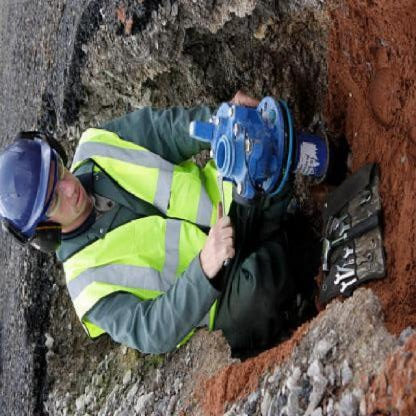vest: (67, 148, 233, 347)
